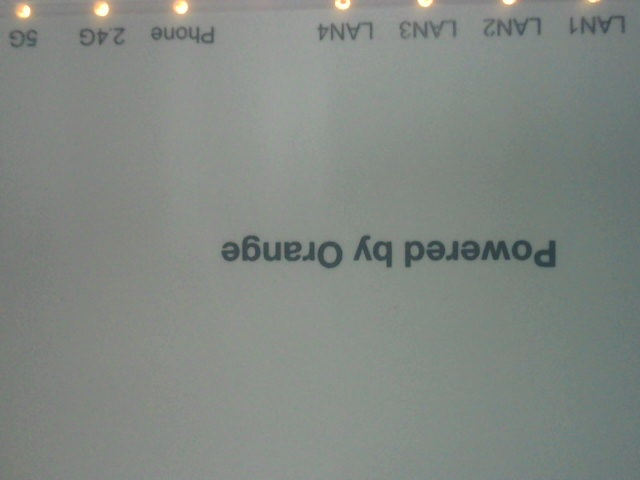AS_PowerByOrange: (208, 227, 573, 274)
